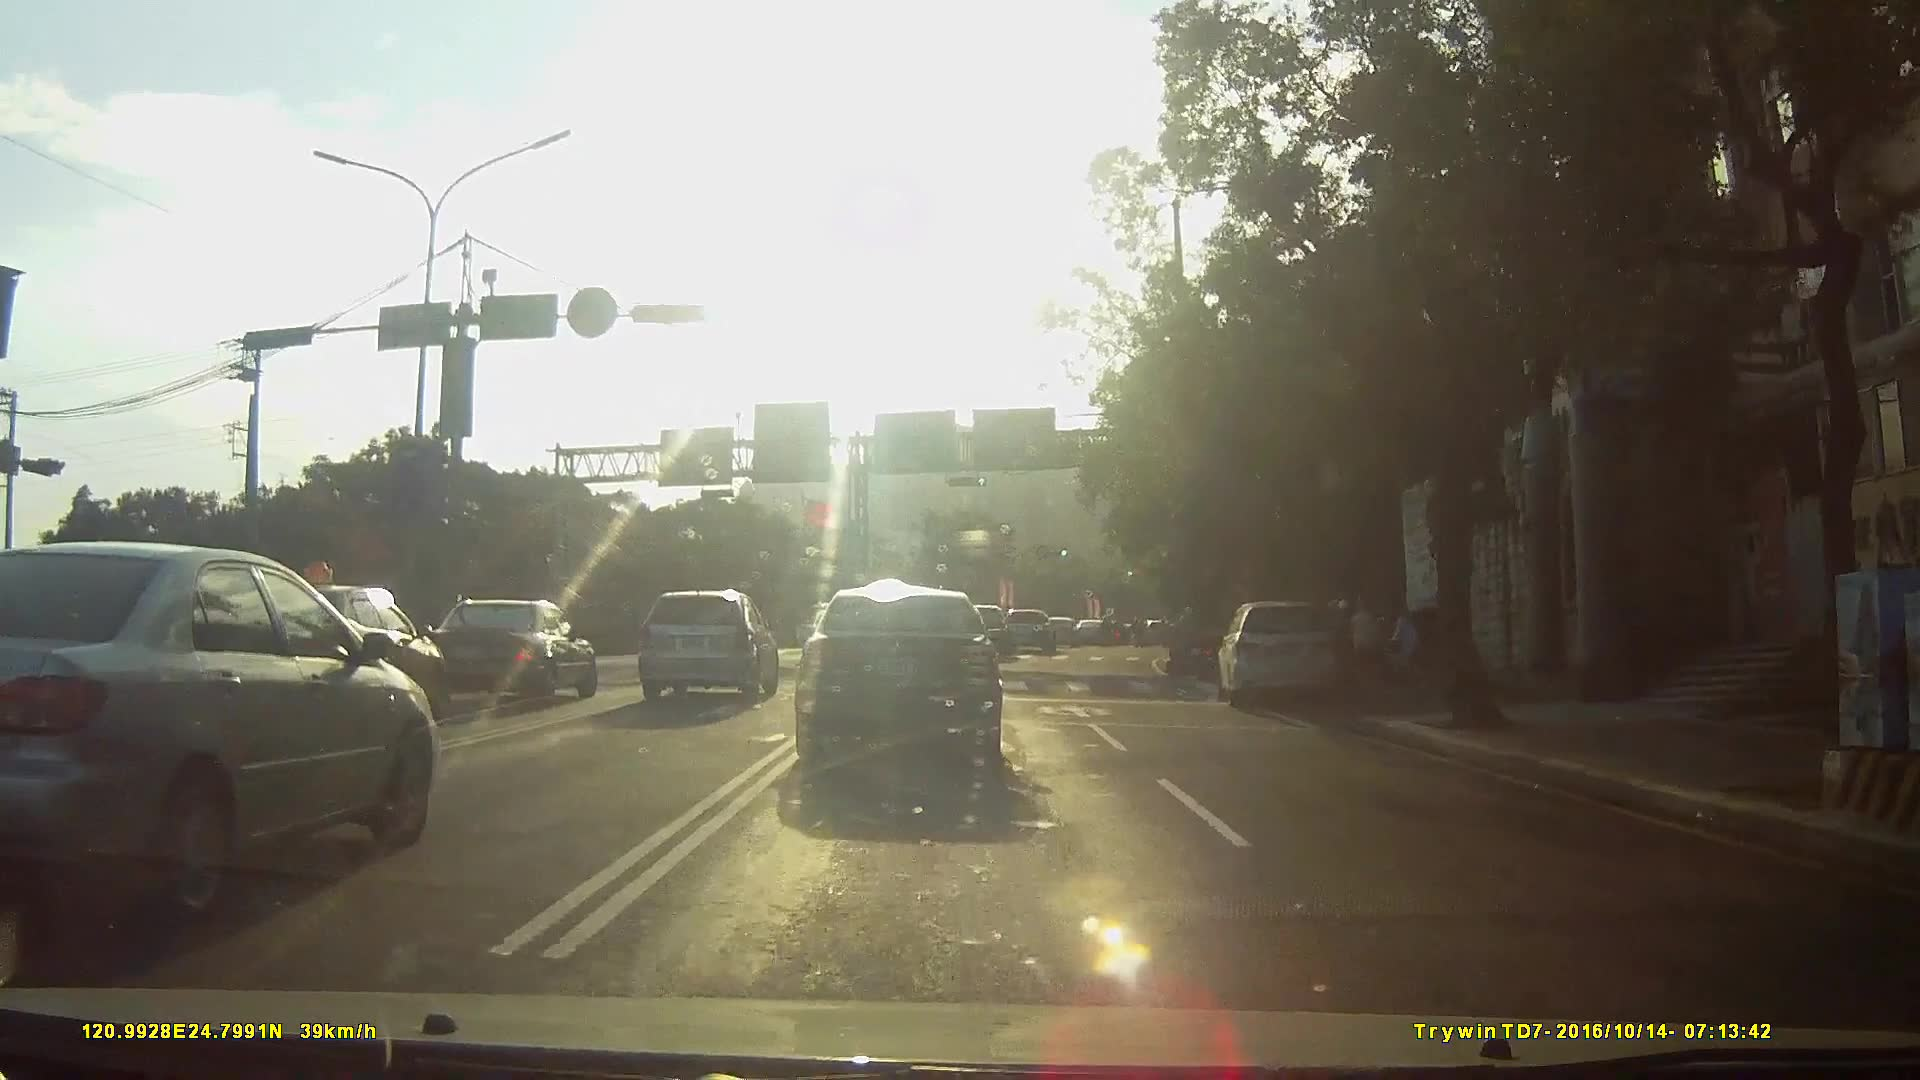pedestrian: (1349, 603, 1390, 665), (1394, 617, 1430, 683)
rider: (1168, 604, 1224, 682)
vehicle: (0, 540, 445, 924), (796, 593, 1026, 793), (410, 598, 603, 710), (1210, 600, 1363, 715), (636, 588, 780, 706), (957, 604, 1019, 662), (1004, 611, 1062, 657), (1048, 616, 1087, 648), (1078, 619, 1116, 647)
